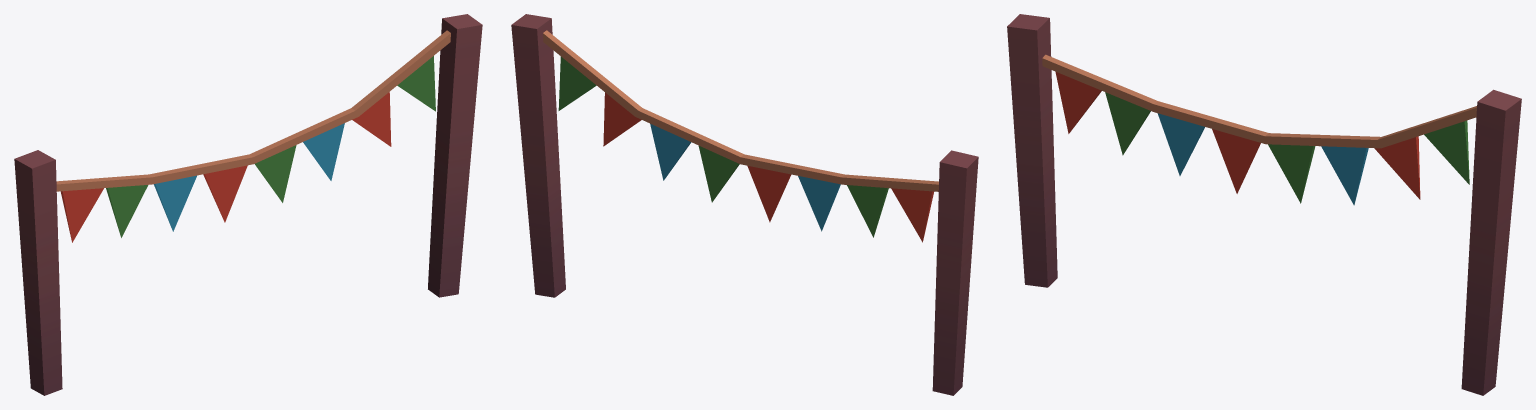
The model's file is Garland.obj.
3 renders of one model, left to right at view 1: azimuth 30°, elevation 25°; view 2: azimuth 150°, elevation 25°; view 3: azimuth 330°, elevation 25°, orthographic. The views are drawn at different scales.
Visible parts, largest first — view 1: {mesh}Garland_Cube.010; view 2: {mesh}Garland_Cube.010; view 3: {mesh}Garland_Cube.010.
Boxes of the visible parts, x1,y1,x2,y2 form: {mesh}Garland_Cube.010: (14,14,482,395); {mesh}Garland_Cube.010: (511,14,978,395); {mesh}Garland_Cube.010: (1007,14,1521,395).
Bounding box in the file's own units: 204 × 115 × 12.86.
